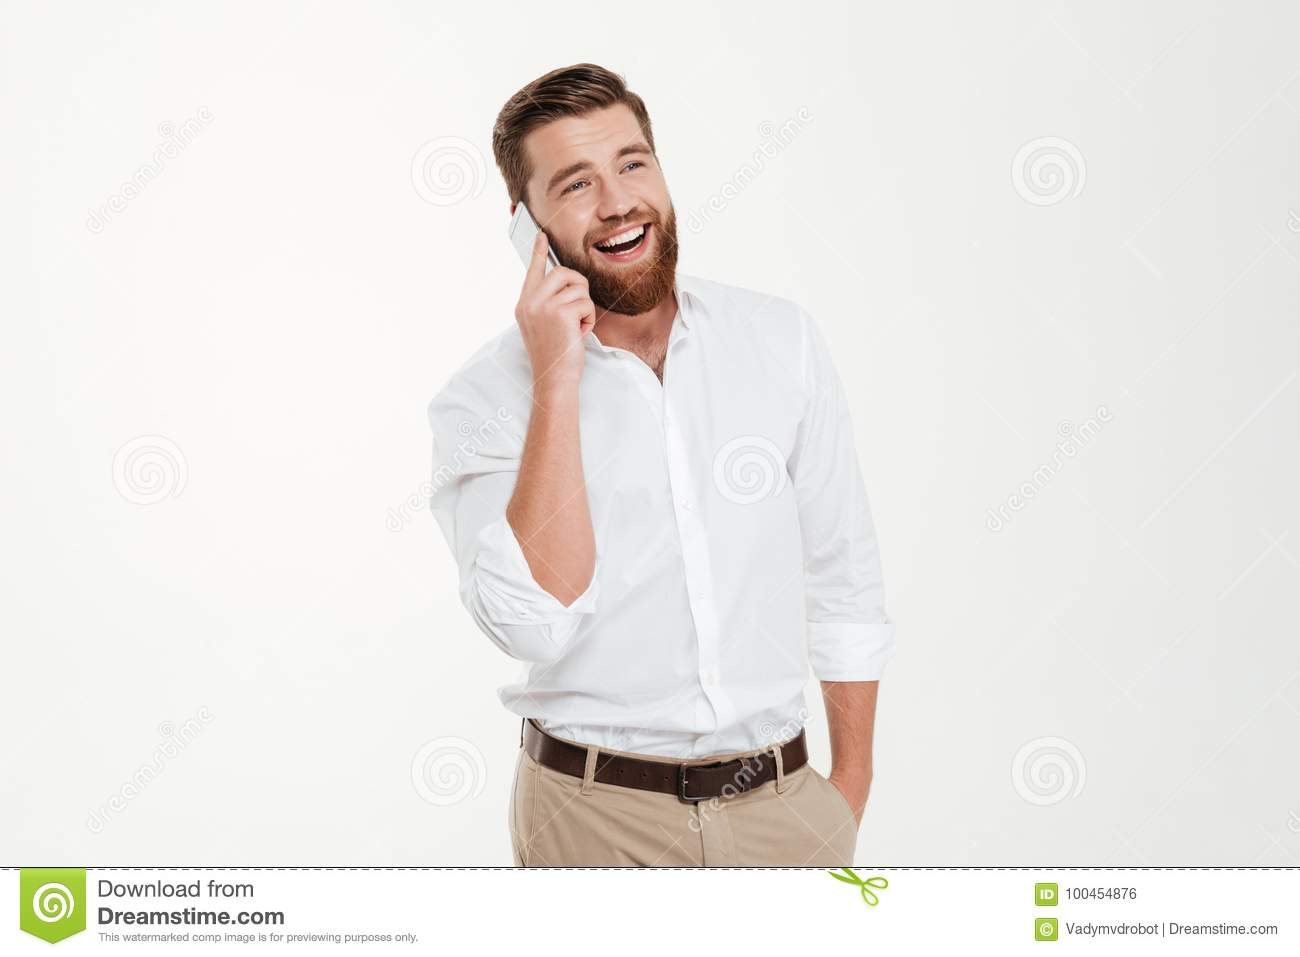phone: (512, 204, 563, 292)
talk: (512, 137, 678, 389)
